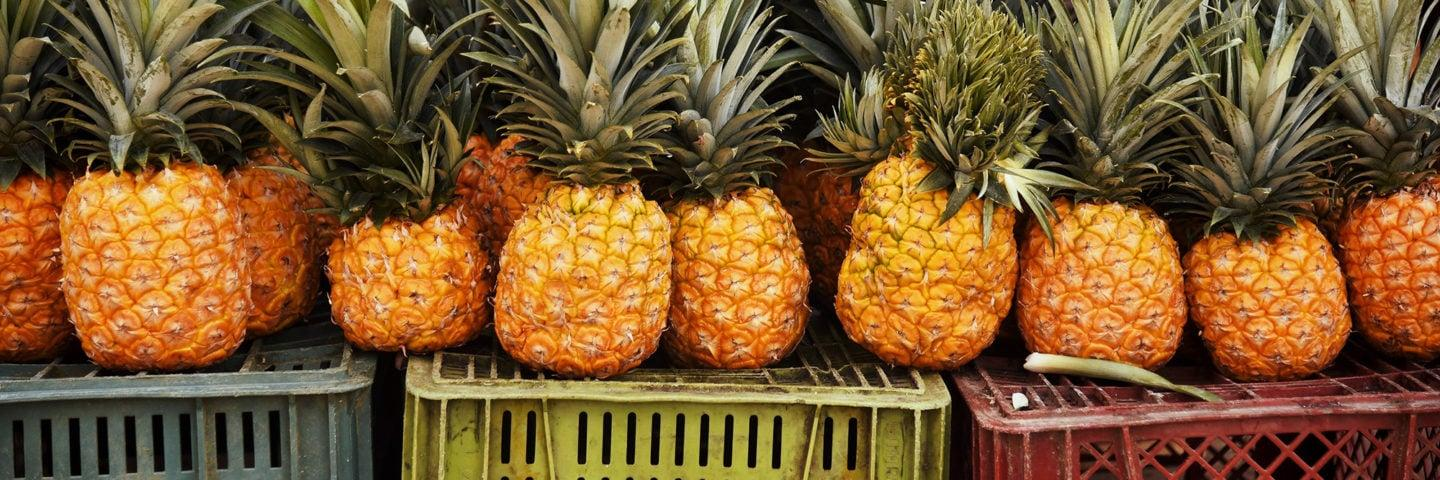pineapple: (468, 0, 693, 388), (43, 0, 269, 382), (251, 0, 495, 352), (836, 5, 1021, 376), (1187, 6, 1355, 378), (1038, 0, 1188, 390), (662, 1, 820, 369), (1337, 0, 1440, 361)
